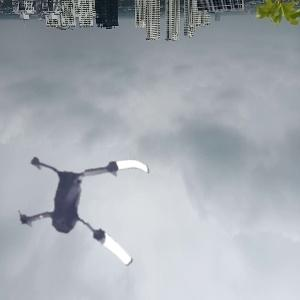drone: (1, 128, 163, 290)
